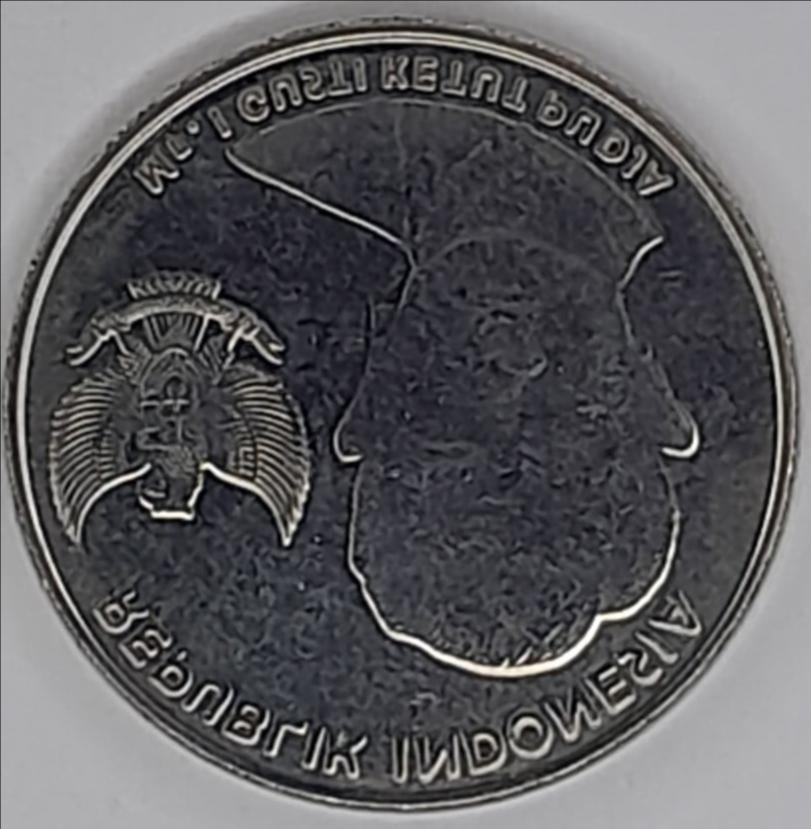coin_1000_e2016: (14, 16, 800, 829)
